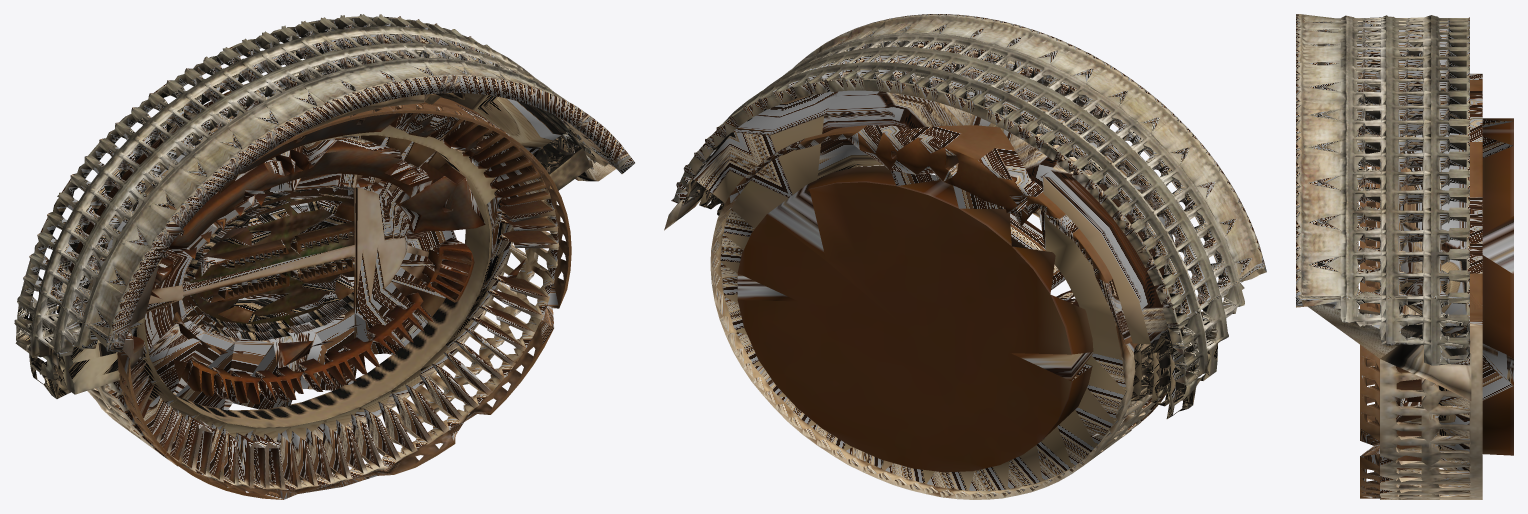
The model's file is colosseum.fbx.
3 renders of one model, left to right at view 1: azimuth 30°, elevation 25°; view 2: azimuth 150°, elevation 25°; view 3: azimuth 270°, elevation 25°, orthographic. The views are drawn at different scales.
Visible parts, largest first — view 1: 10064_colosseum_v1_Iteration0; view 2: 10064_colosseum_v1_Iteration0; view 3: 10064_colosseum_v1_Iteration0.
Boxes of the visible parts, left/top/right/bottom form: 10064_colosseum_v1_Iteration0: left=14, top=14, right=634, bottom=499; 10064_colosseum_v1_Iteration0: left=664, top=14, right=1266, bottom=499; 10064_colosseum_v1_Iteration0: left=1295, top=14, right=1513, bottom=499.
Bounding box in the file's own units: 1846473 × 1359958 × 638450.
